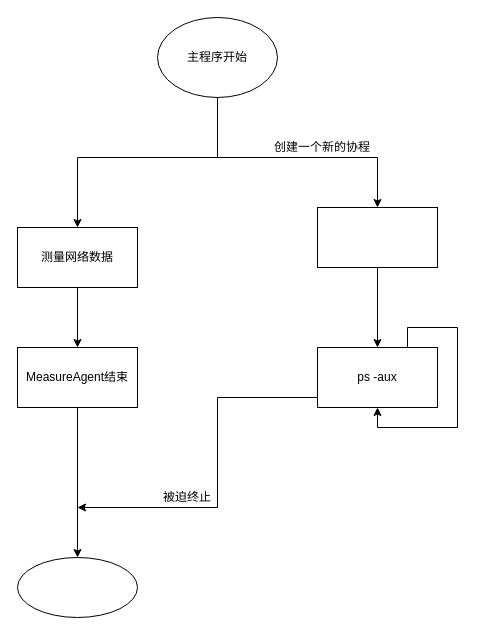
Image size: 483x635. Some labels were removed from this diagram. The centre of each missing label's shape, as x and y in pixels:
"主程序结束" belongs at [77,587].
"状态检测" belongs at [377,237].
